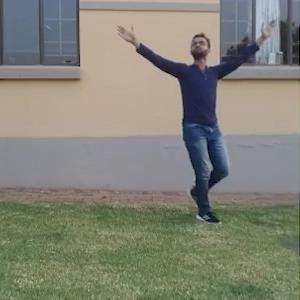takeoff: (119, 26, 276, 225)
